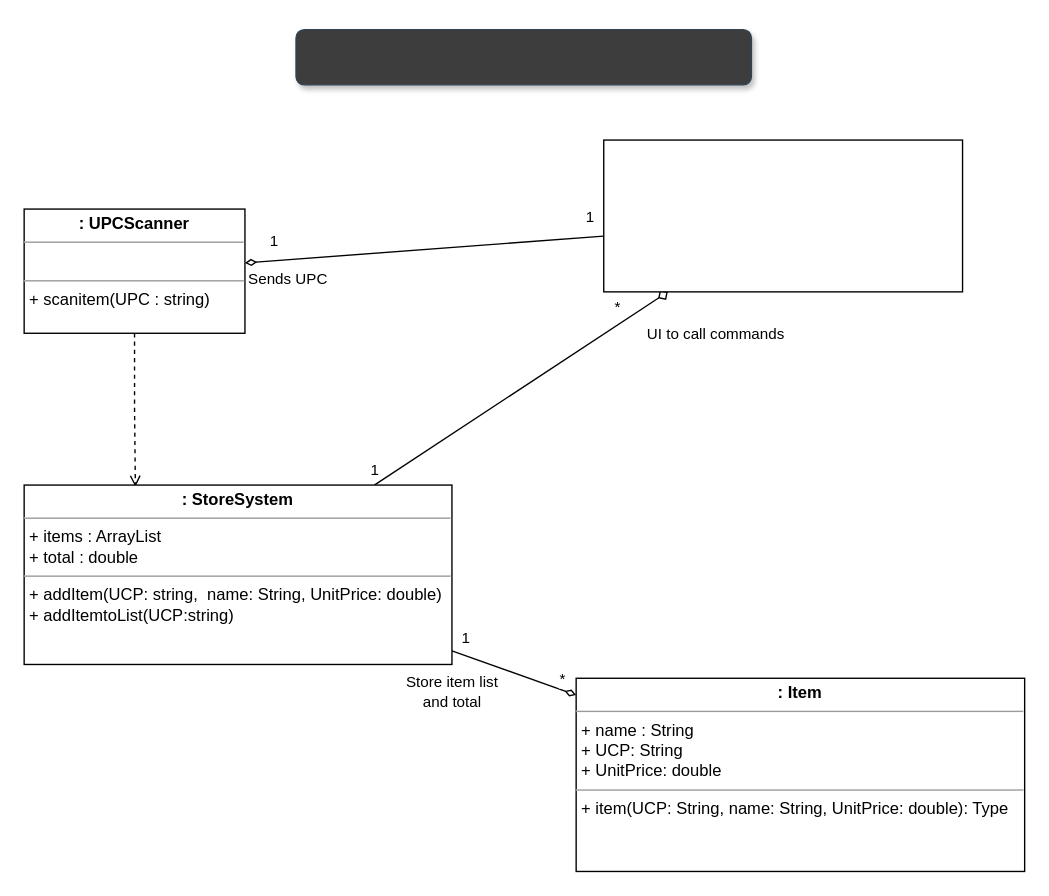
Image size: 1049x896. Some labels were removed from this diagram. Here are the shapes that lost their labels. From the top down, the centre of each, then its label:
At [524,59]: "2.4) Class_Diagram".
At [782,215]: ": Register currUPC : String + getUPC(UPC : string): + getConfirmation() + pay()".
